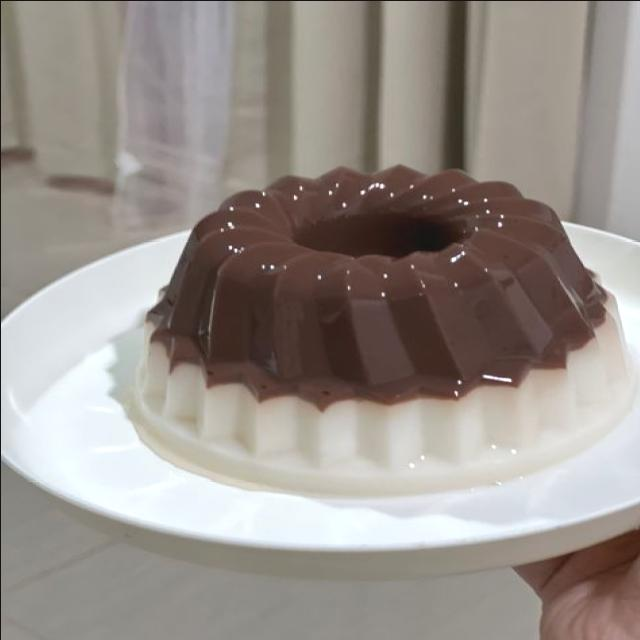puding: (122, 165, 640, 500)
